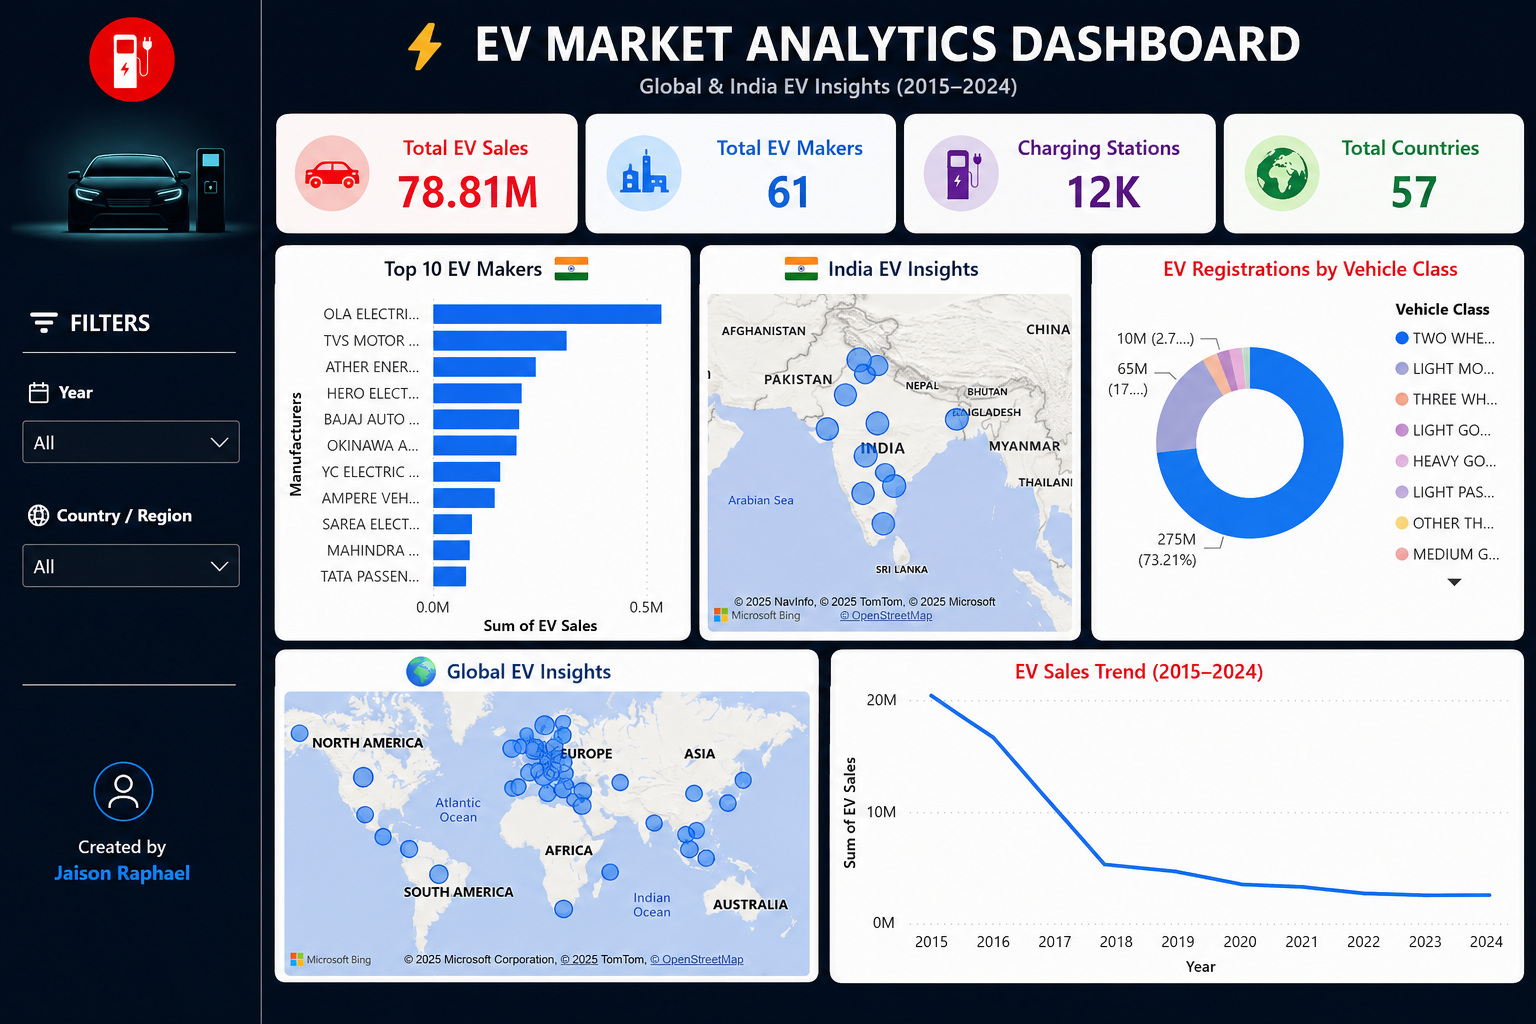

The dashboard page shown, as its layout file describes it:
{"tool":"powerbi","page":{"name":"Page 1","canvas":[1280,720],"ordinal":0},"visuals":[{"type":"textbox","box":[0,80,256,640],"z":0},{"type":"textbox","box":[0,0,1280,80],"z":1000},{"type":"cardVisual","title":"🚗 Total EV Sales","fields":{"Data":["Sum(ev_market_analytics global_ev_sales.EV Sales)"]},"box":[272,80,250,120],"z":2000},{"type":"lineChart","title":"📈 EV Sales Trend (2015–2024)","fields":{"Category":["ev_market_analytics global_ev_sales.Year"],"Y":["Sum(ev_market_analytics global_ev_sales.EV Sales)"]},"box":[672,480,603,224],"z":3000},{"type":"clusteredBarChart","title":"📊 Top 10 EV Makers","fields":{"Category":["ev_market_analytics makers_sales.Maker"],"Y":["Sum(ev_market_analytics makers_sales.EV Sales)"]},"box":[272,208,400,288],"z":4000},{"type":"donutChart","title":"🚘 EV Registrations by Vehicle Class","fields":{"Category":["ev_market_analytics vehicle_class.Vehicle Class"],"Y":["Sum(ev_market_analytics vehicle_class.Total Registration)"]},"box":[944,208,328,256],"z":5000},{"type":"map","title":"🌍 Global EV Insights","fields":{"Category":["ev_market_analytics global_ev_sales.region_country"],"Size":["CountNonNull(ev_market_analytics global_ev_sales.EV Sales)"]},"box":[272,512,391,192],"z":6000},{"type":"slicer","title":"📅 Year","fields":{"Values":["ev_market_analytics global_ev_sales.Year"]},"box":[16,480,240,96],"z":7000},{"type":"slicer","fields":{"Values":["ev_market_analytics global_ev_sales.region_country"]},"box":[16,368,240,96],"z":8000},{"type":"cardVisual","title":"🏭 Total EV Makers","fields":{"Data":["ev_market_analytics charging_stations.Total_EV_Makers"]},"box":[528,80,250,120],"z":9000},{"type":"cardVisual","title":"🔌 Charging Stations","fields":{"Data":["ev_market_analytics charging_stations.Total_Charging_Stations"]},"box":[784,80,249,120],"z":10000},{"type":"cardVisual","title":"🌍 Total Countries","fields":{"Data":["ev_market_analytics charging_stations.Total_Countries"]},"box":[1040,80,237,120],"z":11000},{"type":"map","title":"India EV Insights","fields":{"Category":["ev_market_analytics maker_place.State"],"Size":["Sum(ev_market_analytics global_ev_sales.EV Sales)"]},"box":[672,208,266,256],"z":12000},{"type":"image","box":[16,64,240,224],"z":13000},{"type":"image","box":[1040,128,112,64],"z":14000},{"type":"image","box":[528,128,112,80],"z":15000},{"type":"textbox","box":[16,288,176,48],"z":16000},{"type":"image","box":[32,288,32,48],"z":17000},{"type":"image","box":[800,128,112,64],"z":18000},{"type":"image","box":[272,128,96,64],"z":19000},{"type":"image","box":[16,0,96,112],"z":20000},{"type":"image","box":[96,608,48,32],"z":21000},{"type":"textbox","box":[0,640,256,64],"z":22000},{"type":"shape","box":[16,256,240,16],"z":23000},{"type":"shape","box":[64,528,128,128],"z":24000}]}

Visuals, with their boxes on the page's 1280x720 design canvas (x1, y1, x2, y2). These are canvas units, not pixel positions in the 1536x1024 screenshot, which may show the page scaled, cropped or inside an application window:
textbox: x1=0 y1=80 x2=256 y2=720
textbox: x1=0 y1=0 x2=1280 y2=80
"🚗 Total EV Sales" cardVisual: x1=272 y1=80 x2=522 y2=200
"📈 EV Sales Trend (2015–2024)" lineChart: x1=672 y1=480 x2=1275 y2=704
"📊 Top 10 EV Makers" clusteredBarChart: x1=272 y1=208 x2=672 y2=496
"🚘 EV Registrations by Vehicle Class" donutChart: x1=944 y1=208 x2=1272 y2=464
"🌍 Global EV Insights" map: x1=272 y1=512 x2=663 y2=704
"📅 Year" slicer: x1=16 y1=480 x2=256 y2=576
slicer - ev_market_analytics global_ev_sales.region_country: x1=16 y1=368 x2=256 y2=464
"🏭 Total EV Makers" cardVisual: x1=528 y1=80 x2=778 y2=200
"🔌 Charging Stations" cardVisual: x1=784 y1=80 x2=1033 y2=200
"🌍 Total Countries" cardVisual: x1=1040 y1=80 x2=1277 y2=200
"India EV Insights" map: x1=672 y1=208 x2=938 y2=464
image: x1=16 y1=64 x2=256 y2=288
image: x1=1040 y1=128 x2=1152 y2=192
image: x1=528 y1=128 x2=640 y2=208
textbox: x1=16 y1=288 x2=192 y2=336
image: x1=32 y1=288 x2=64 y2=336
image: x1=800 y1=128 x2=912 y2=192
image: x1=272 y1=128 x2=368 y2=192
image: x1=16 y1=0 x2=112 y2=112
image: x1=96 y1=608 x2=144 y2=640
textbox: x1=0 y1=640 x2=256 y2=704
shape: x1=16 y1=256 x2=256 y2=272
shape: x1=64 y1=528 x2=192 y2=656
